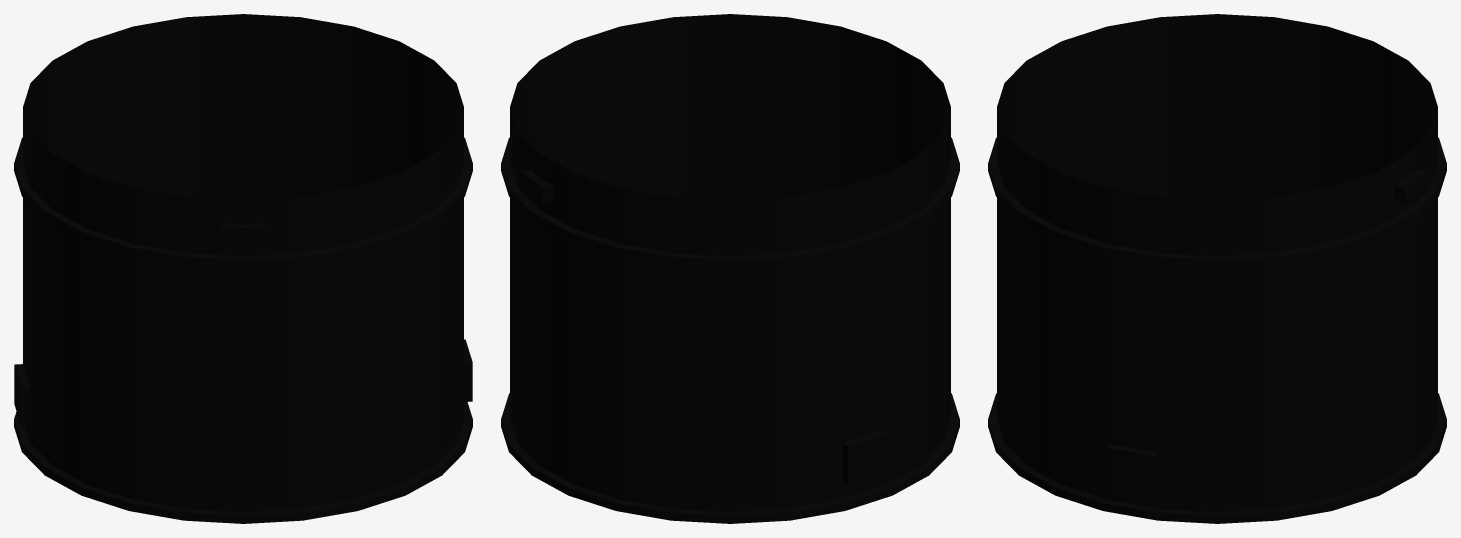
File: hamal_fuel_tank_s1_2.obj
3 renders of one model, left to right at view 1: azimuth 30°, elevation 25°; view 2: azimuth 150°, elevation 25°; view 3: azimuth 270°, elevation 25°, orthographic.
Visible parts, largest first — view 1: 1; view 2: 1; view 3: 1.
Part boxes in pixels (bbox=[...]): 1: bbox=[14, 14, 472, 523]; 1: bbox=[501, 14, 959, 523]; 1: bbox=[988, 14, 1446, 523].
Size of the model in its own units: 1.3 by 1 by 1.3.
Materials: 1 (1 with a texture image).
